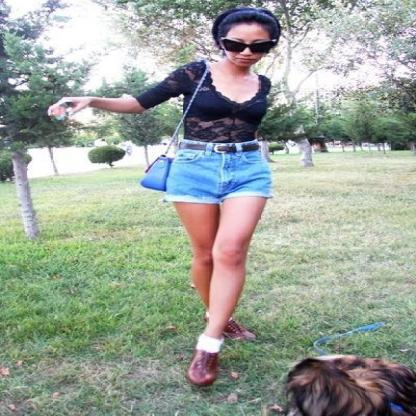bag: (140, 155, 196, 191)
hat: (212, 0, 282, 45)
shirt: (138, 60, 272, 141)
shoe: (180, 320, 250, 390)
shorts: (158, 141, 273, 202)
sunglass: (222, 39, 261, 53)
